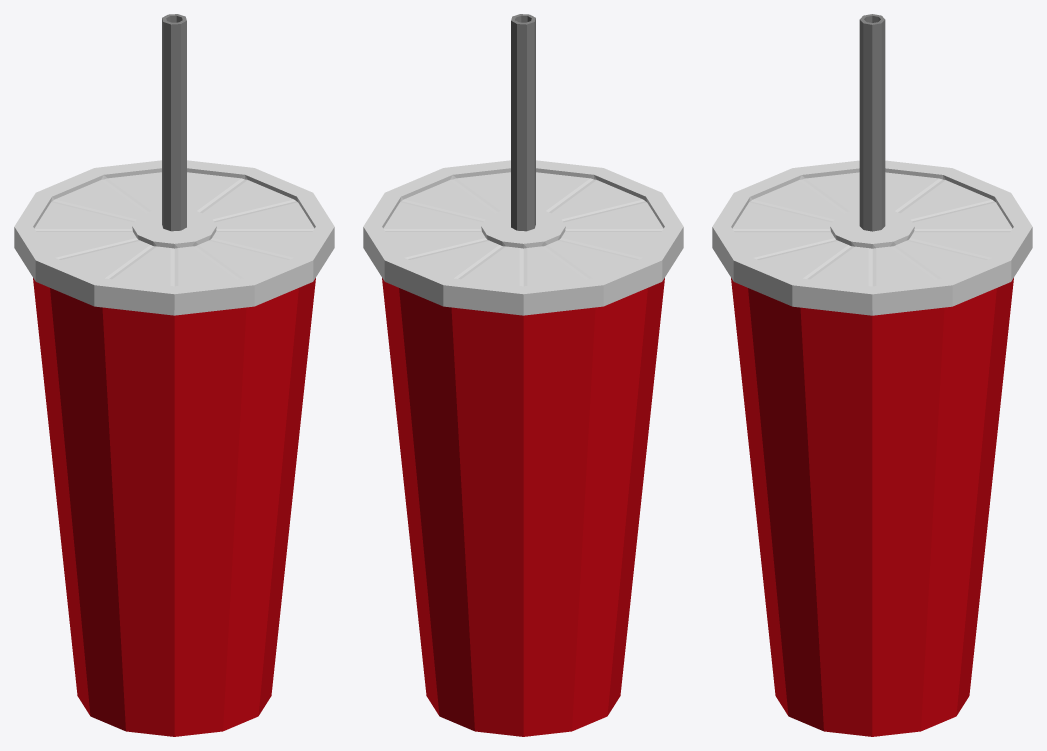
File: Cup.fbx
3 renders of one model, left to right at view 1: azimuth 30°, elevation 25°; view 2: azimuth 150°, elevation 25°; view 3: azimuth 270°, elevation 25°, orthographic.
Visible parts, largest first — view 1: Cylinder, Cylinder.001; view 2: Cylinder, Cylinder.001; view 3: Cylinder, Cylinder.001.
Boxes of the visible parts, left/top/right/bottom form: Cylinder: left=14, top=160, right=334, bottom=736; Cylinder.001: left=162, top=14, right=186, bottom=231; Cylinder: left=363, top=160, right=683, bottom=736; Cylinder.001: left=511, top=14, right=535, bottom=231; Cylinder: left=712, top=160, right=1032, bottom=736; Cylinder.001: left=859, top=14, right=885, bottom=231.
Bounding box in the file's own units: 81.64 × 190 × 81.64.
